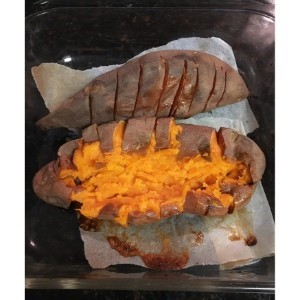sweet potato_brain food: (66, 67, 248, 203)
